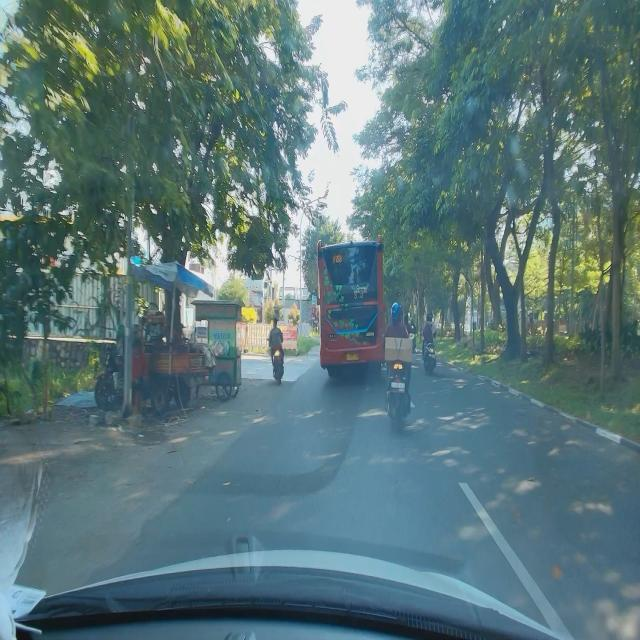bus: (316, 234, 386, 376)
license-plate: (346, 352, 359, 361)
